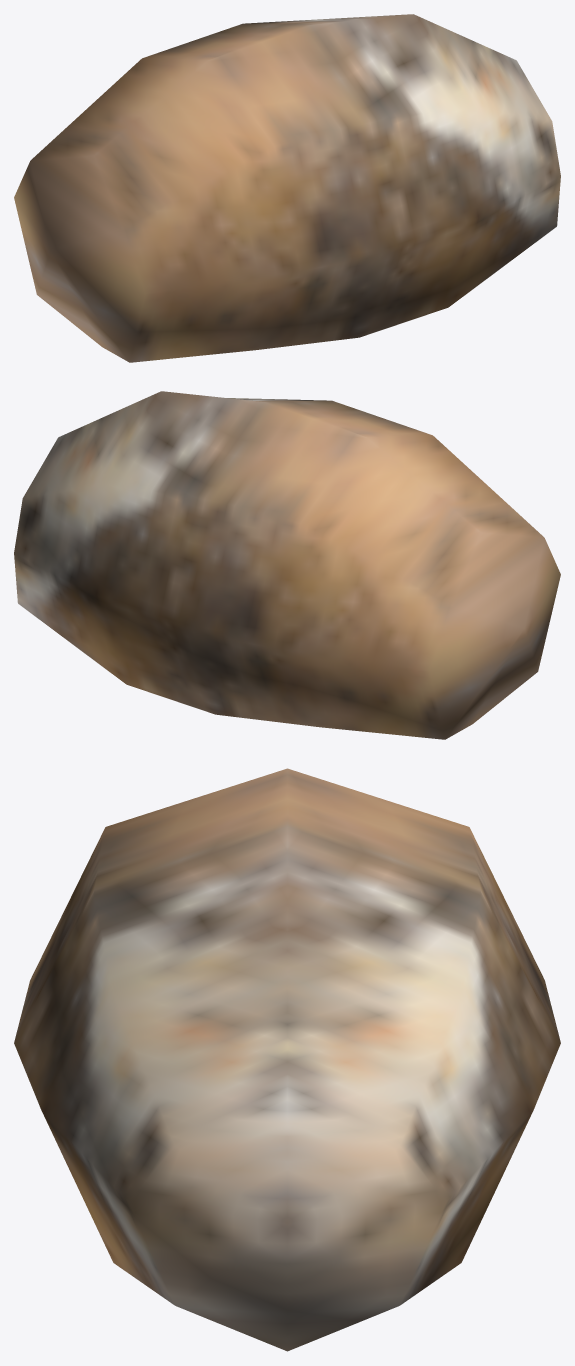
Rendered from old_potato.FBX.
The picture shows the model from 3 angles, top to bottom: view 1: azimuth 30°, elevation 25°; view 2: azimuth 150°, elevation 25°; view 3: azimuth 270°, elevation 25°; orthographic projection. The views are drawn at different scales.
Visible parts, largest first — view 1: old_potato; view 2: old_potato; view 3: old_potato.
Part boxes in pixels (<box>): old_potato: <box>14,14,560,362</box>; old_potato: <box>14,391,560,739</box>; old_potato: <box>14,768,560,1351</box>.
Bounding box in the file's own units: 33.04 × 19.61 × 21.75.
